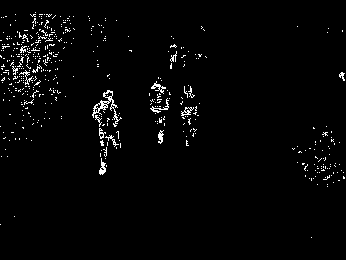person: (89, 89, 127, 176), (177, 82, 209, 146), (147, 76, 172, 145)
